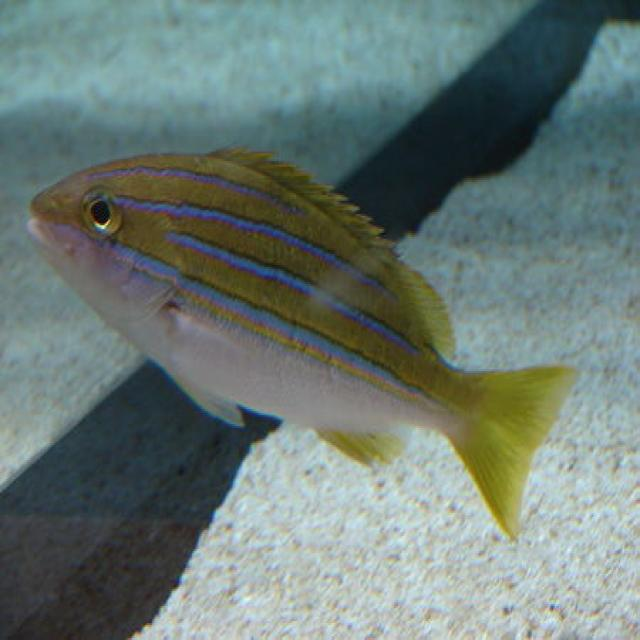ikan: (24, 142, 580, 543)
